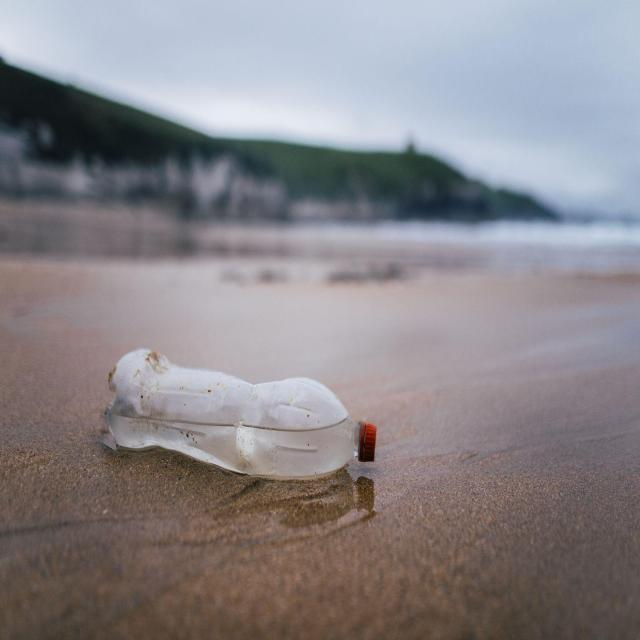bottle: (100, 338, 377, 483)
